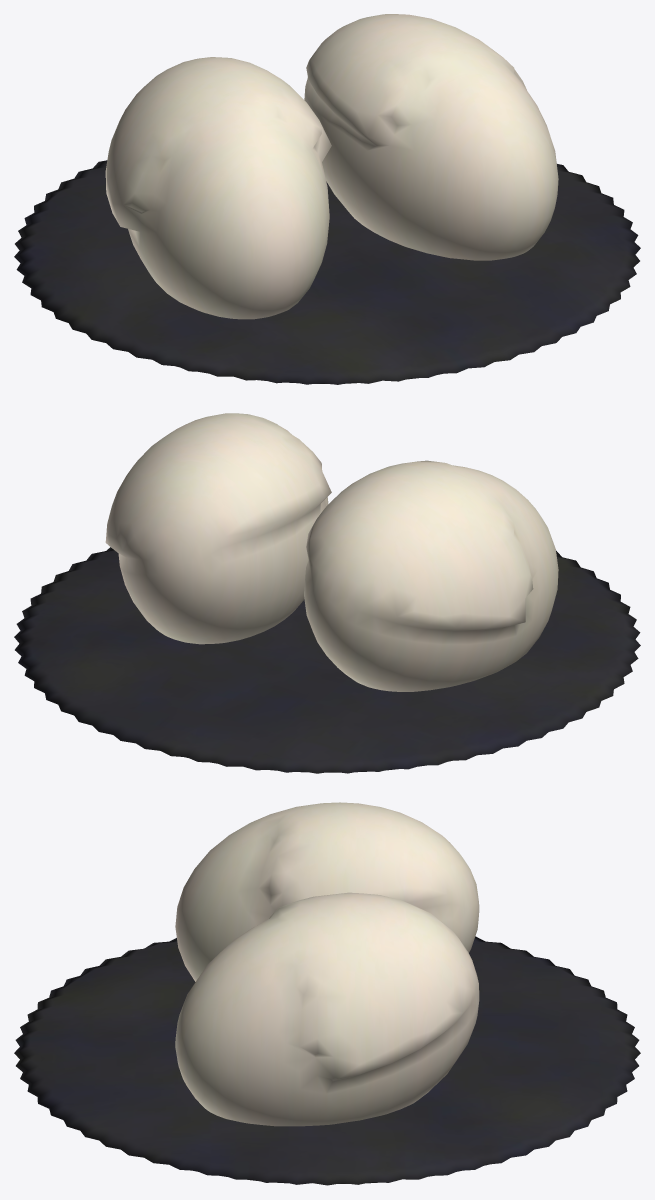
File: butter-chicken-bao-ultralight.glb
3 renders of one model, top to bottom at view 1: azimuth 30°, elevation 25°; view 2: azimuth 150°, elevation 25°; view 3: azimuth 270°, elevation 25°, orthographic.
Parts seen in each view (by area): view 1: Mesh_Steamed_Gua_Bao_Buns, Mesh_Charcoal_Slate_Platter; view 2: Mesh_Steamed_Gua_Bao_Buns, Mesh_Charcoal_Slate_Platter; view 3: Mesh_Steamed_Gua_Bao_Buns, Mesh_Charcoal_Slate_Platter.
Boxes of the visible parts, bbox=[...] form: Mesh_Steamed_Gua_Bao_Buns: bbox=[105, 14, 558, 319]; Mesh_Charcoal_Slate_Platter: bbox=[14, 160, 640, 384]; Mesh_Steamed_Gua_Bao_Buns: bbox=[105, 413, 558, 691]; Mesh_Charcoal_Slate_Platter: bbox=[14, 547, 640, 773]; Mesh_Steamed_Gua_Bao_Buns: bbox=[175, 802, 479, 1126]; Mesh_Charcoal_Slate_Platter: bbox=[14, 936, 640, 1185].
Size of the model in its own units: 2 by 0.7788 by 2.
Materials: 4 (4 with a texture image).
